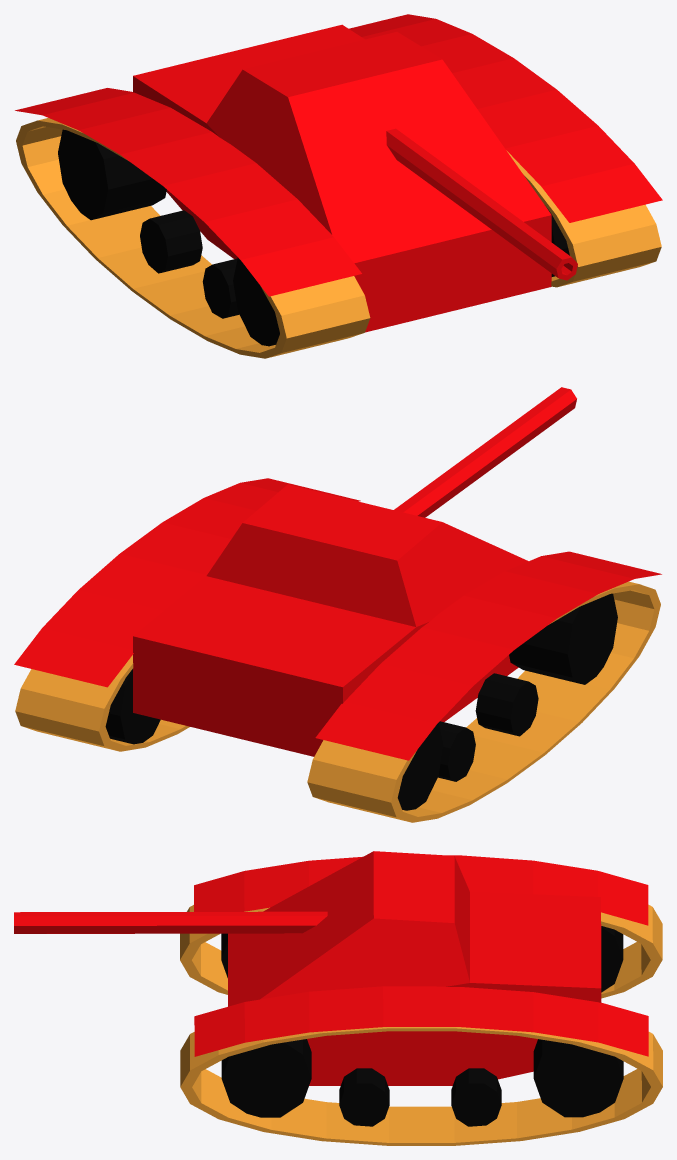
The model's file is tank_red.glb.
3 views of the same model, one above another, from view 1: azimuth 30°, elevation 25°; view 2: azimuth 150°, elevation 25°; view 3: azimuth 270°, elevation 25° (orthographic). The views are drawn at different scales.
Parts seen in each view (by area): view 1: Cube.001, Cylinder.002, Cylinder.001, Cylinder.011, Cylinder.005, Cylinder.010, Cylinder.004, Cylinder.003, Cylinder.012, Cylinder.009; view 2: Cube.001, Cylinder.002, Cylinder.001, Cylinder.011, Cylinder.005, Cylinder.012, Cylinder.004, Cylinder.009, Cylinder.010, Cylinder.006, Cylinder.003; view 3: Cube.001, Cylinder.001, Cylinder.005, Cylinder.002, Cylinder.004, Cylinder, Cylinder.006, Cylinder.011, Cylinder.008, Cylinder.007, Cylinder.010.
Part boxes in pixels (x1,y1,x2,y2): Cube.001: [133, 24, 551, 332]; Cylinder.002: [15, 88, 361, 296]; Cylinder.001: [349, 14, 662, 222]; Cylinder.011: [16, 118, 370, 358]; Cylinder.005: [506, 150, 661, 287]; Cylinder.010: [58, 129, 166, 220]; Cylinder.004: [386, 128, 577, 280]; Cylinder.003: [140, 210, 202, 273]; Cylinder.012: [233, 257, 279, 346]; Cylinder.009: [202, 258, 239, 318]; Cube.001: [133, 484, 528, 756]; Cylinder.002: [315, 551, 661, 760]; Cylinder.001: [14, 478, 360, 687]; Cylinder.011: [307, 581, 660, 822]; Cylinder.005: [15, 655, 189, 751]; Cylinder.012: [509, 593, 617, 684]; Cylinder.004: [394, 387, 576, 517]; Cylinder.009: [475, 673, 538, 736]; Cylinder.010: [397, 723, 443, 810]; Cylinder.006: [105, 669, 160, 744]; Cylinder.003: [438, 721, 475, 781]; Cube.001: [228, 851, 601, 1085]; Cylinder.001: [194, 986, 648, 1056]; Cylinder.005: [180, 1027, 662, 1145]; Cylinder.002: [194, 855, 648, 925]; Cylinder.004: [14, 911, 327, 933]; Cylinder: [221, 1039, 311, 1117]; Cylinder.006: [533, 1039, 623, 1117]; Cylinder.011: [180, 904, 662, 998]; Cylinder.008: [451, 1068, 501, 1126]; Cylinder.007: [339, 1068, 389, 1126]; Cylinder.010: [601, 926, 623, 992].
Bounding box in the file's own units: 0.9959 × 0.4838 × 1.59.
